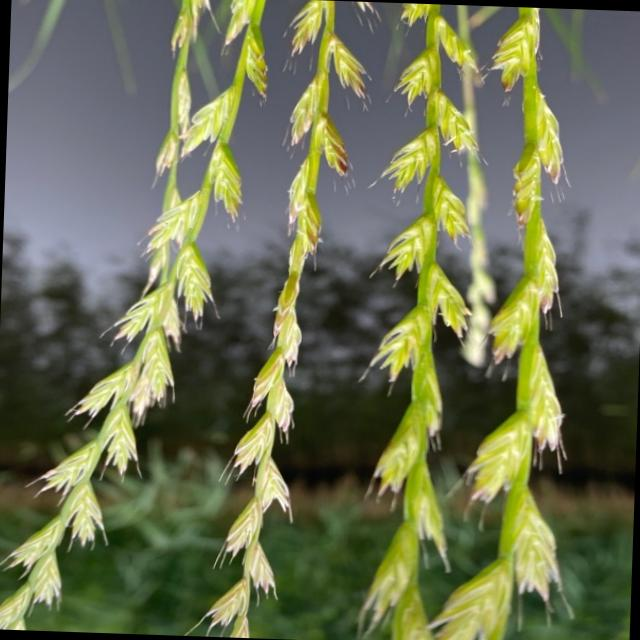Lolium: (0, 0, 267, 637), (204, 0, 359, 640), (437, 7, 589, 640), (347, 1, 482, 640)
